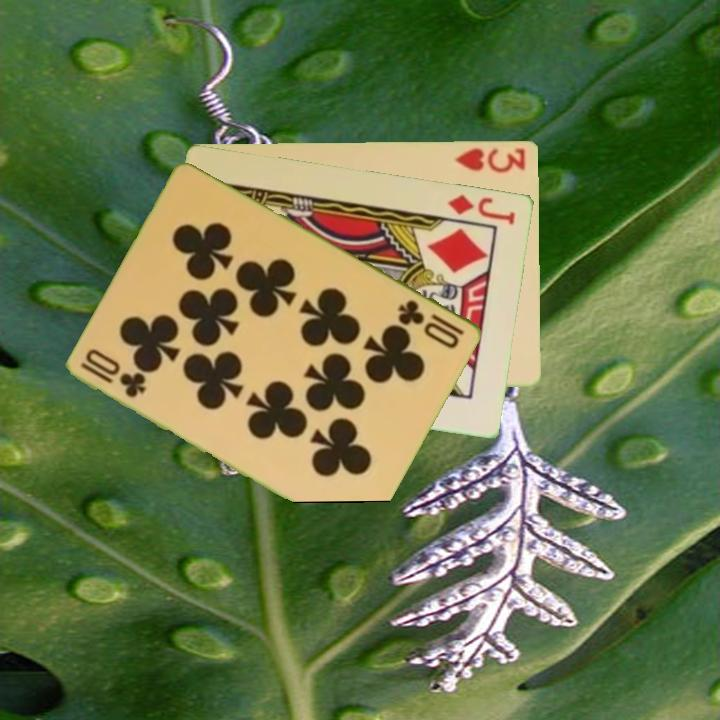10c: (394, 296, 468, 352), (78, 346, 150, 401)
3h: (451, 144, 528, 175)
Jd: (444, 190, 518, 227)
